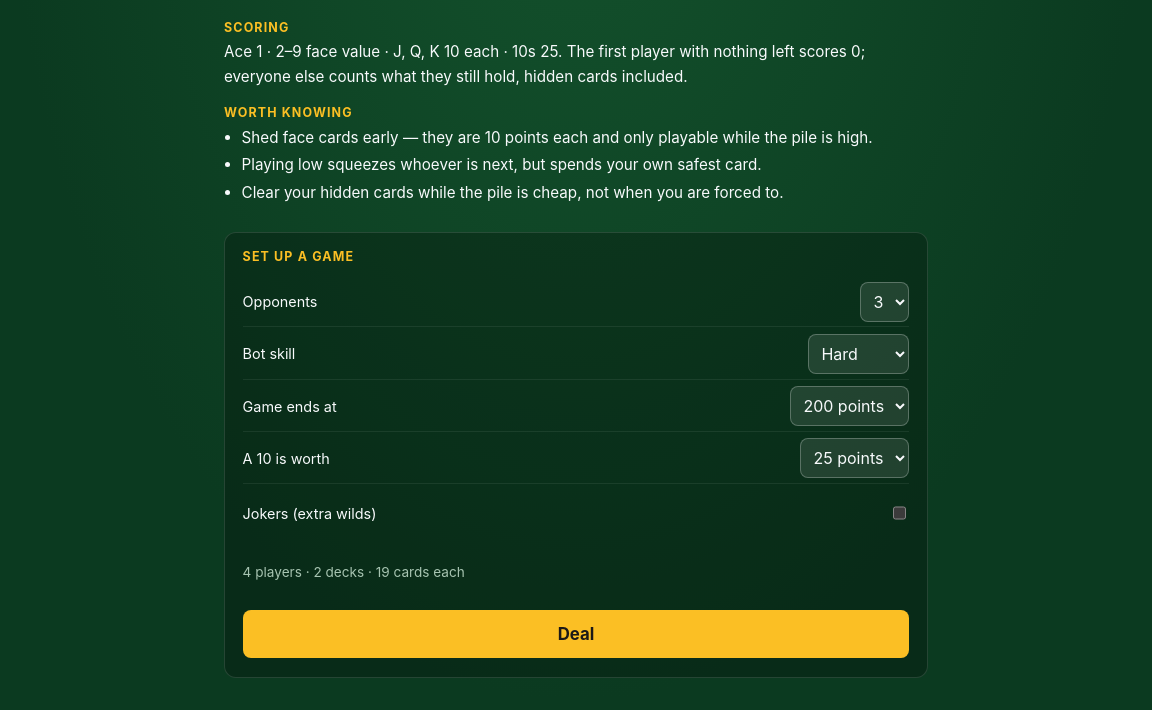
Test: the app end to end › deals a game from the setup screen and shows the table
The image size is (1152, 710).
(page scrolled)
Click the button "Deal" at coordinates (576, 634), box 243,610 -> 909,658
Wait 20000 ms
(page scrolled)
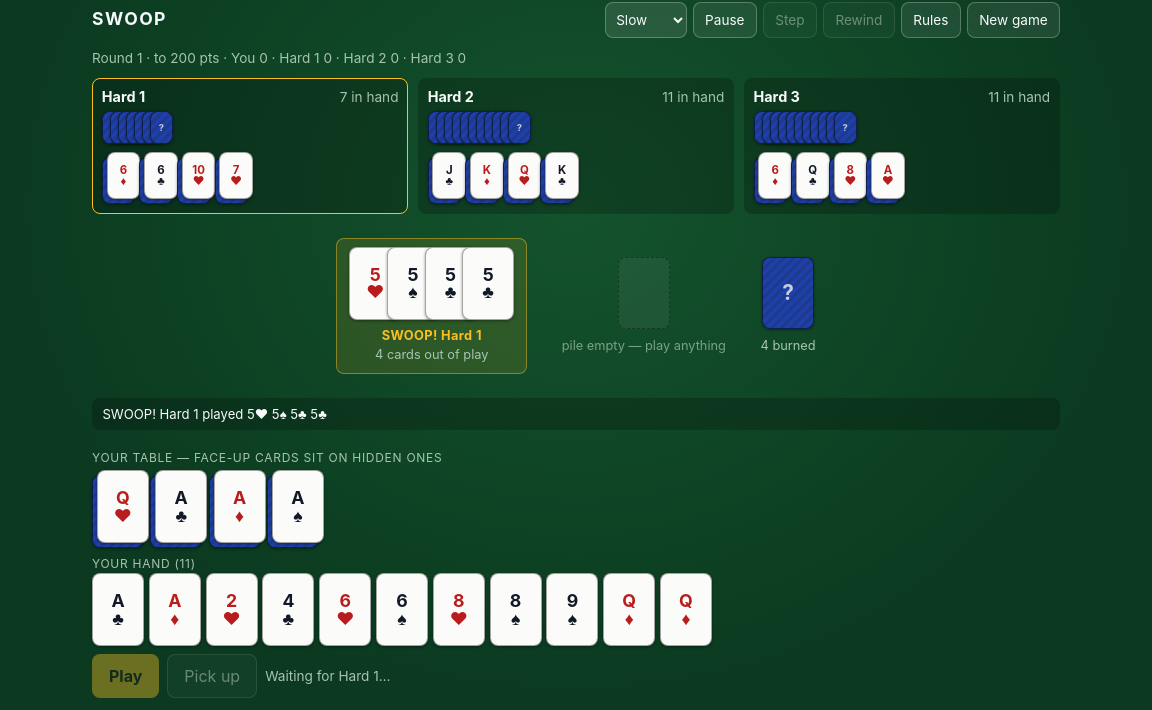
Expected: the text "Round 1" is shown, 92,50 -> 466,66
Expected: the text "Your hand (11)" is shown, 92,556 -> 196,571
Expected: the text "7 in hand" is shown 3 times, 340,89 -> 398,105; 662,89 -> 724,105; 988,89 -> 1050,105
